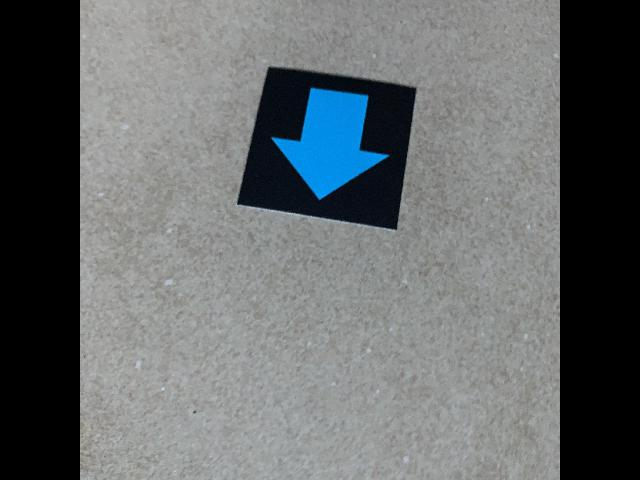down_arrow: (236, 64, 419, 234)
